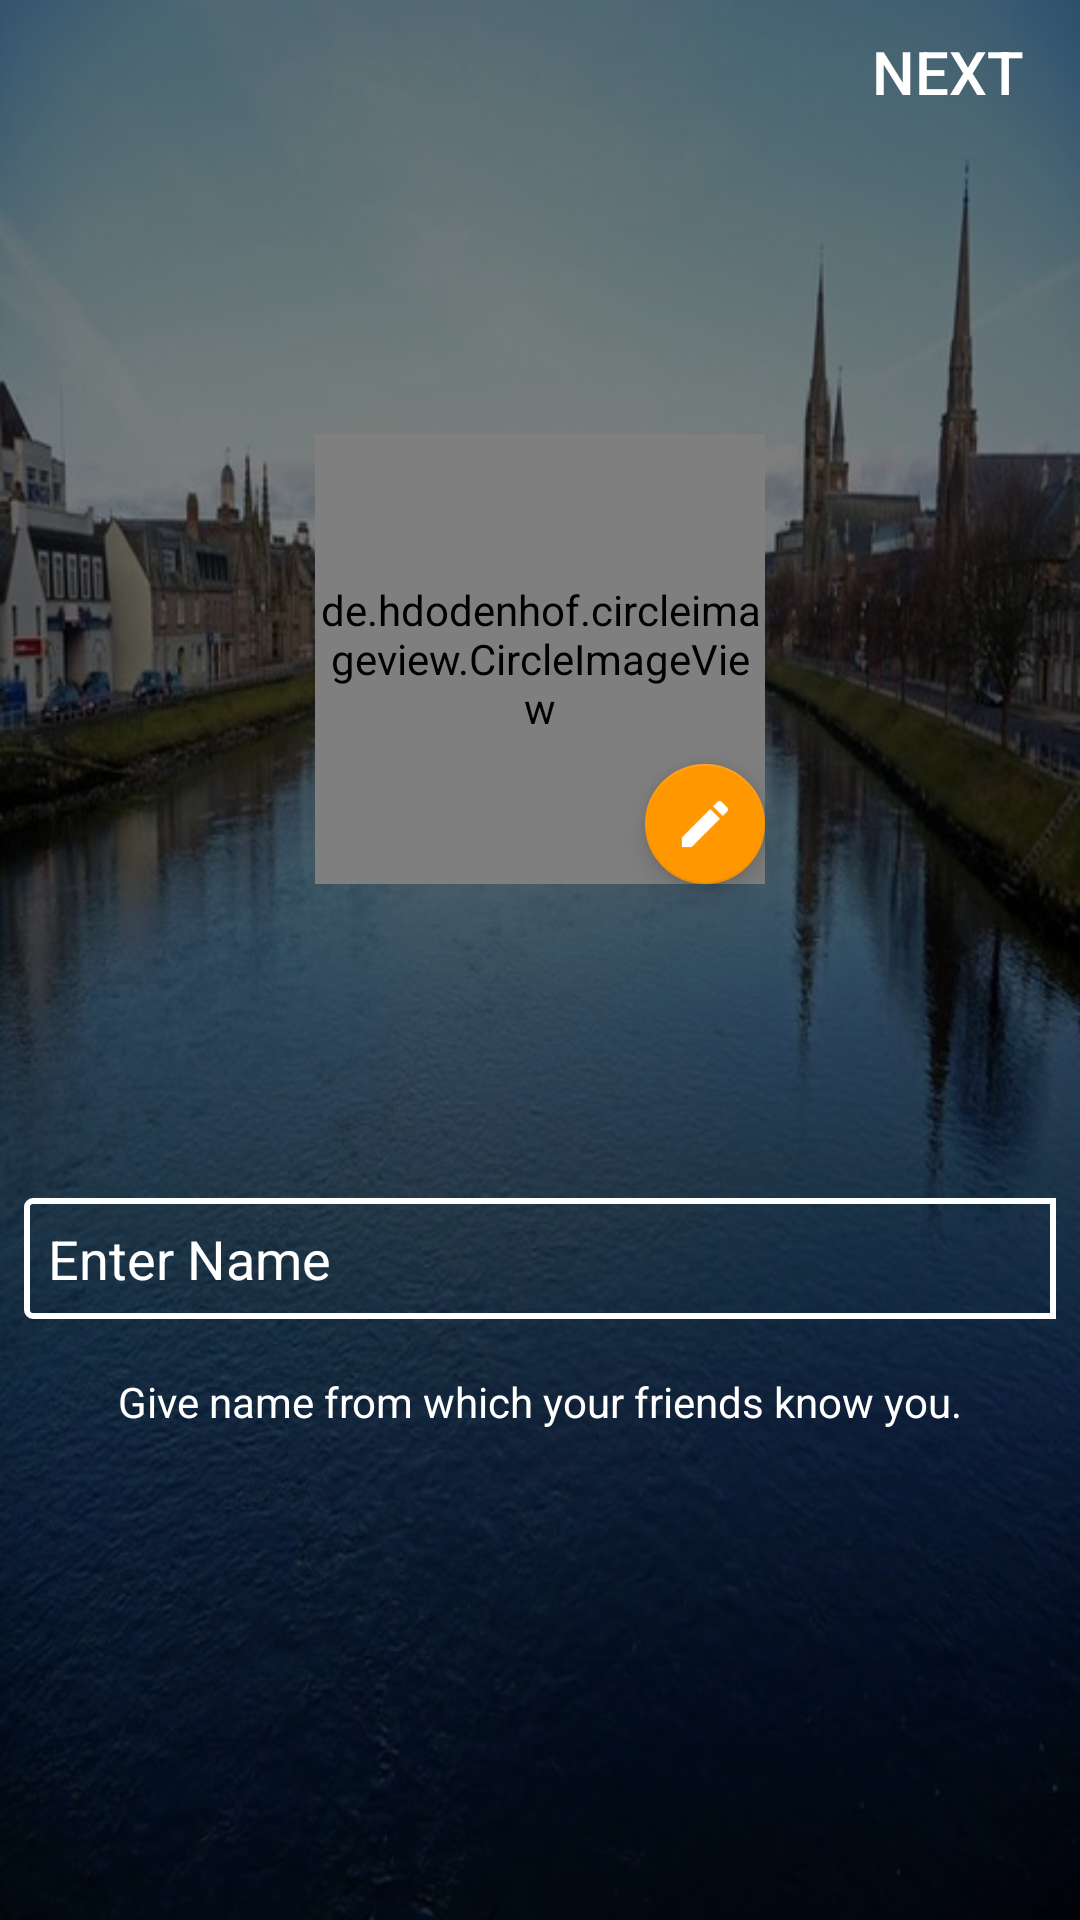

Icons on this 1080px x 1920px Android screen, each with the point to tap as (x,y):
editor mode edit: (705,824)
